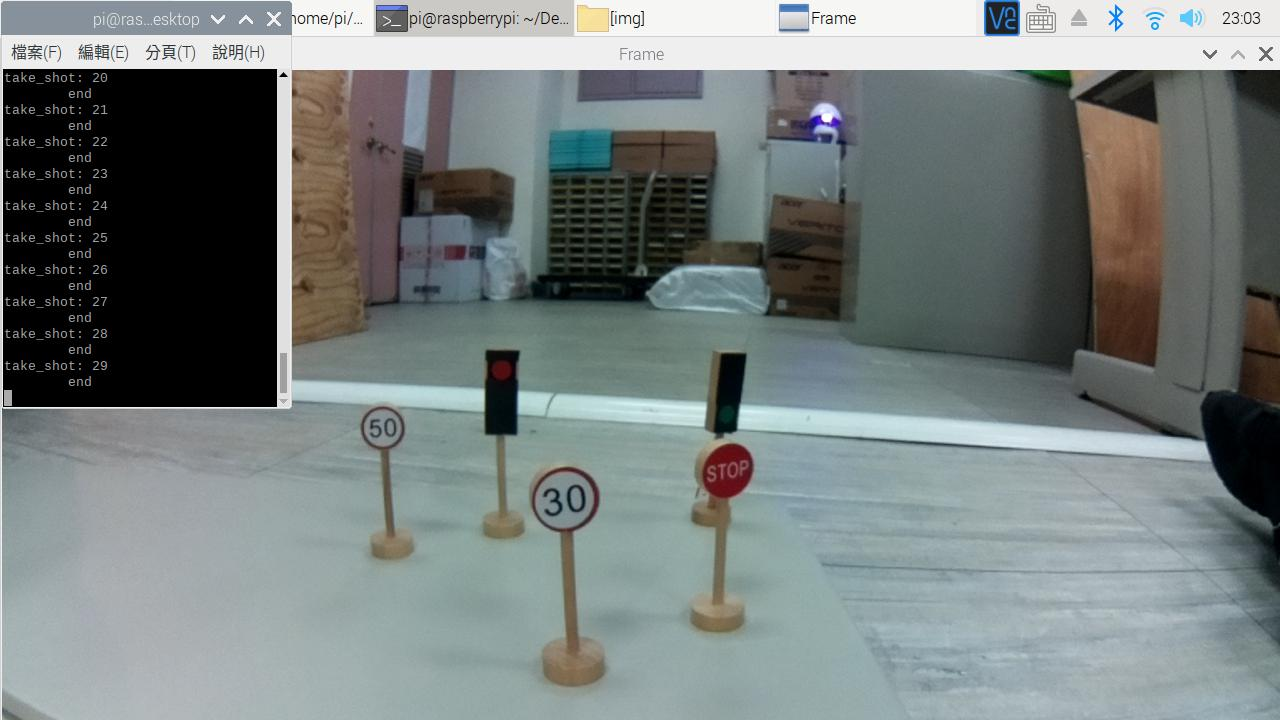Green: (715, 348, 742, 433)
Red: (480, 349, 519, 438)
Speed30: (523, 461, 598, 527)
Speed50: (357, 399, 406, 448)
Stop: (698, 447, 759, 499)
